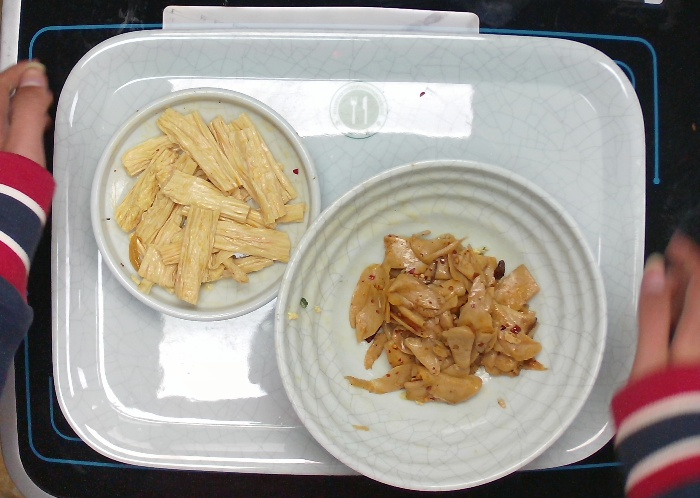JYsf-Da_Tang_Wan: (265, 153, 615, 498)
JYsf-Xiao_Yuan_Pan: (85, 80, 327, 331)
